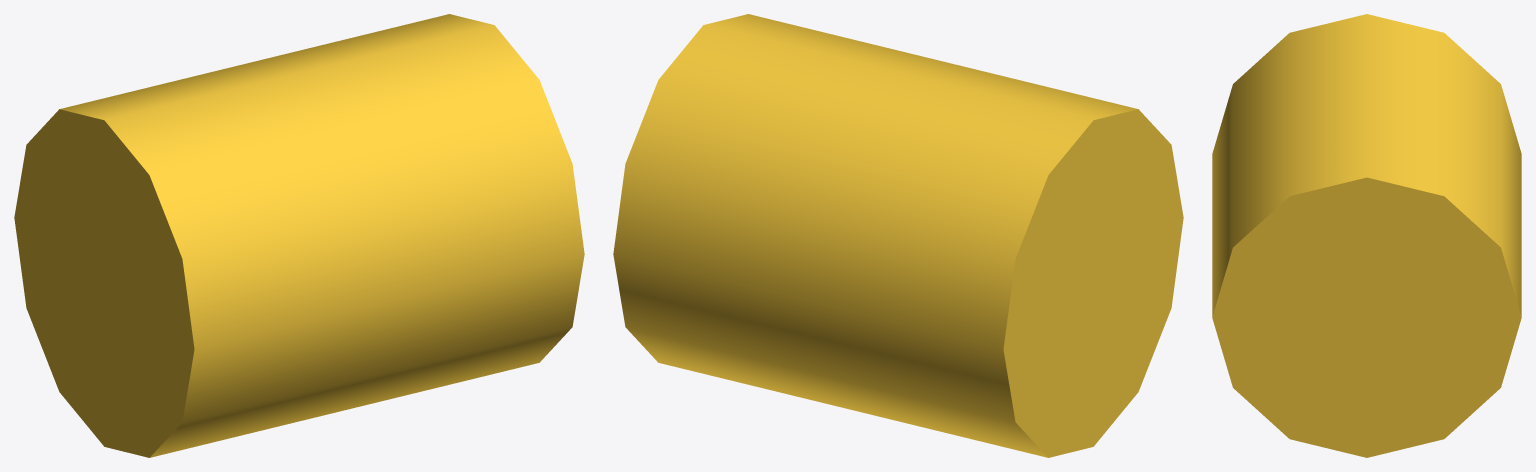
The model's file is gas-cue-tier-0.glb.
The picture shows the model from 3 angles, left to right: view 1: azimuth 30°, elevation 25°; view 2: azimuth 150°, elevation 25°; view 3: azimuth 270°, elevation 25°; orthographic projection. The views are drawn at different scales.
Parts seen in each view (by area): view 1: Tank; view 2: Tank; view 3: Tank.
Part boxes in pixels (bbox=[...]): Tank: bbox=[14, 14, 584, 457]; Tank: bbox=[613, 14, 1183, 457]; Tank: bbox=[1212, 14, 1521, 457].
Bounding box in the file's own units: 0.3 × 0.24 × 0.24.
